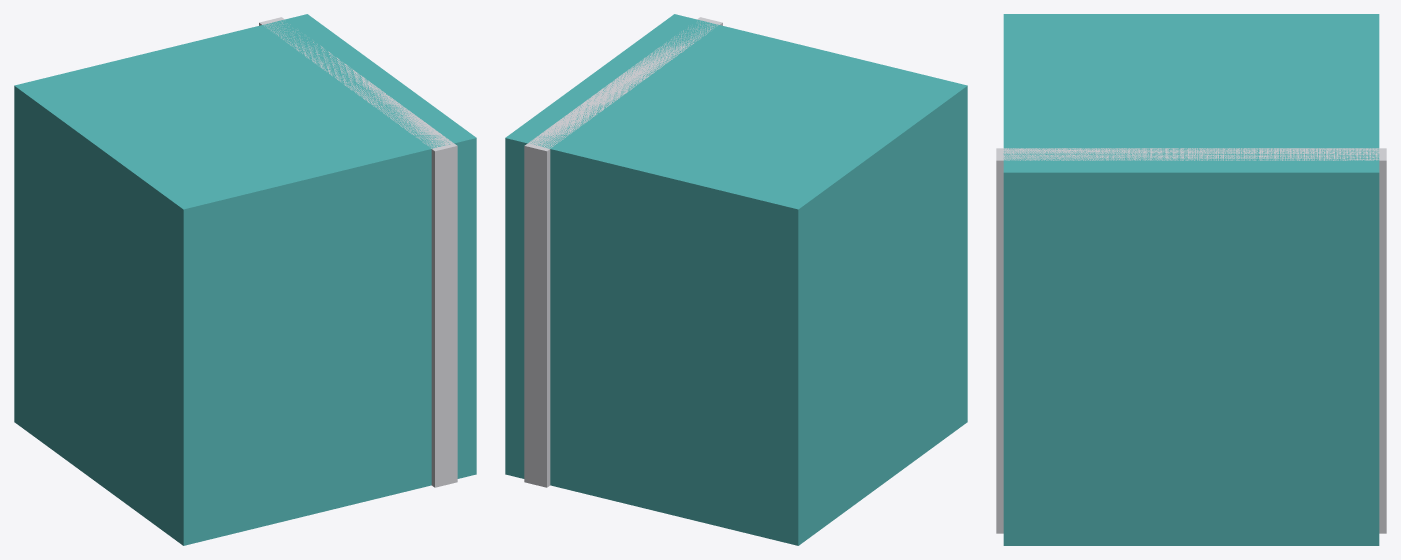
The model's file is yoga_canela.glb.
3 views of the same model, side by side, from view 1: azimuth 30°, elevation 25°; view 2: azimuth 150°, elevation 25°; view 3: azimuth 270°, elevation 25° (orthographic). The views are drawn at different scales.
Visible parts, largest first — view 1: yoga_canela; view 2: yoga_canela; view 3: yoga_canela.
Part boxes in pixels (x1=…): yoga_canela: x1=14, y1=14, x2=476, y2=545; yoga_canela: x1=505, y1=14, x2=967, y2=545; yoga_canela: x1=996, y1=14, x2=1386, y2=545.
Size of the model in its own units: 0.26 by 0.285 by 0.27.
